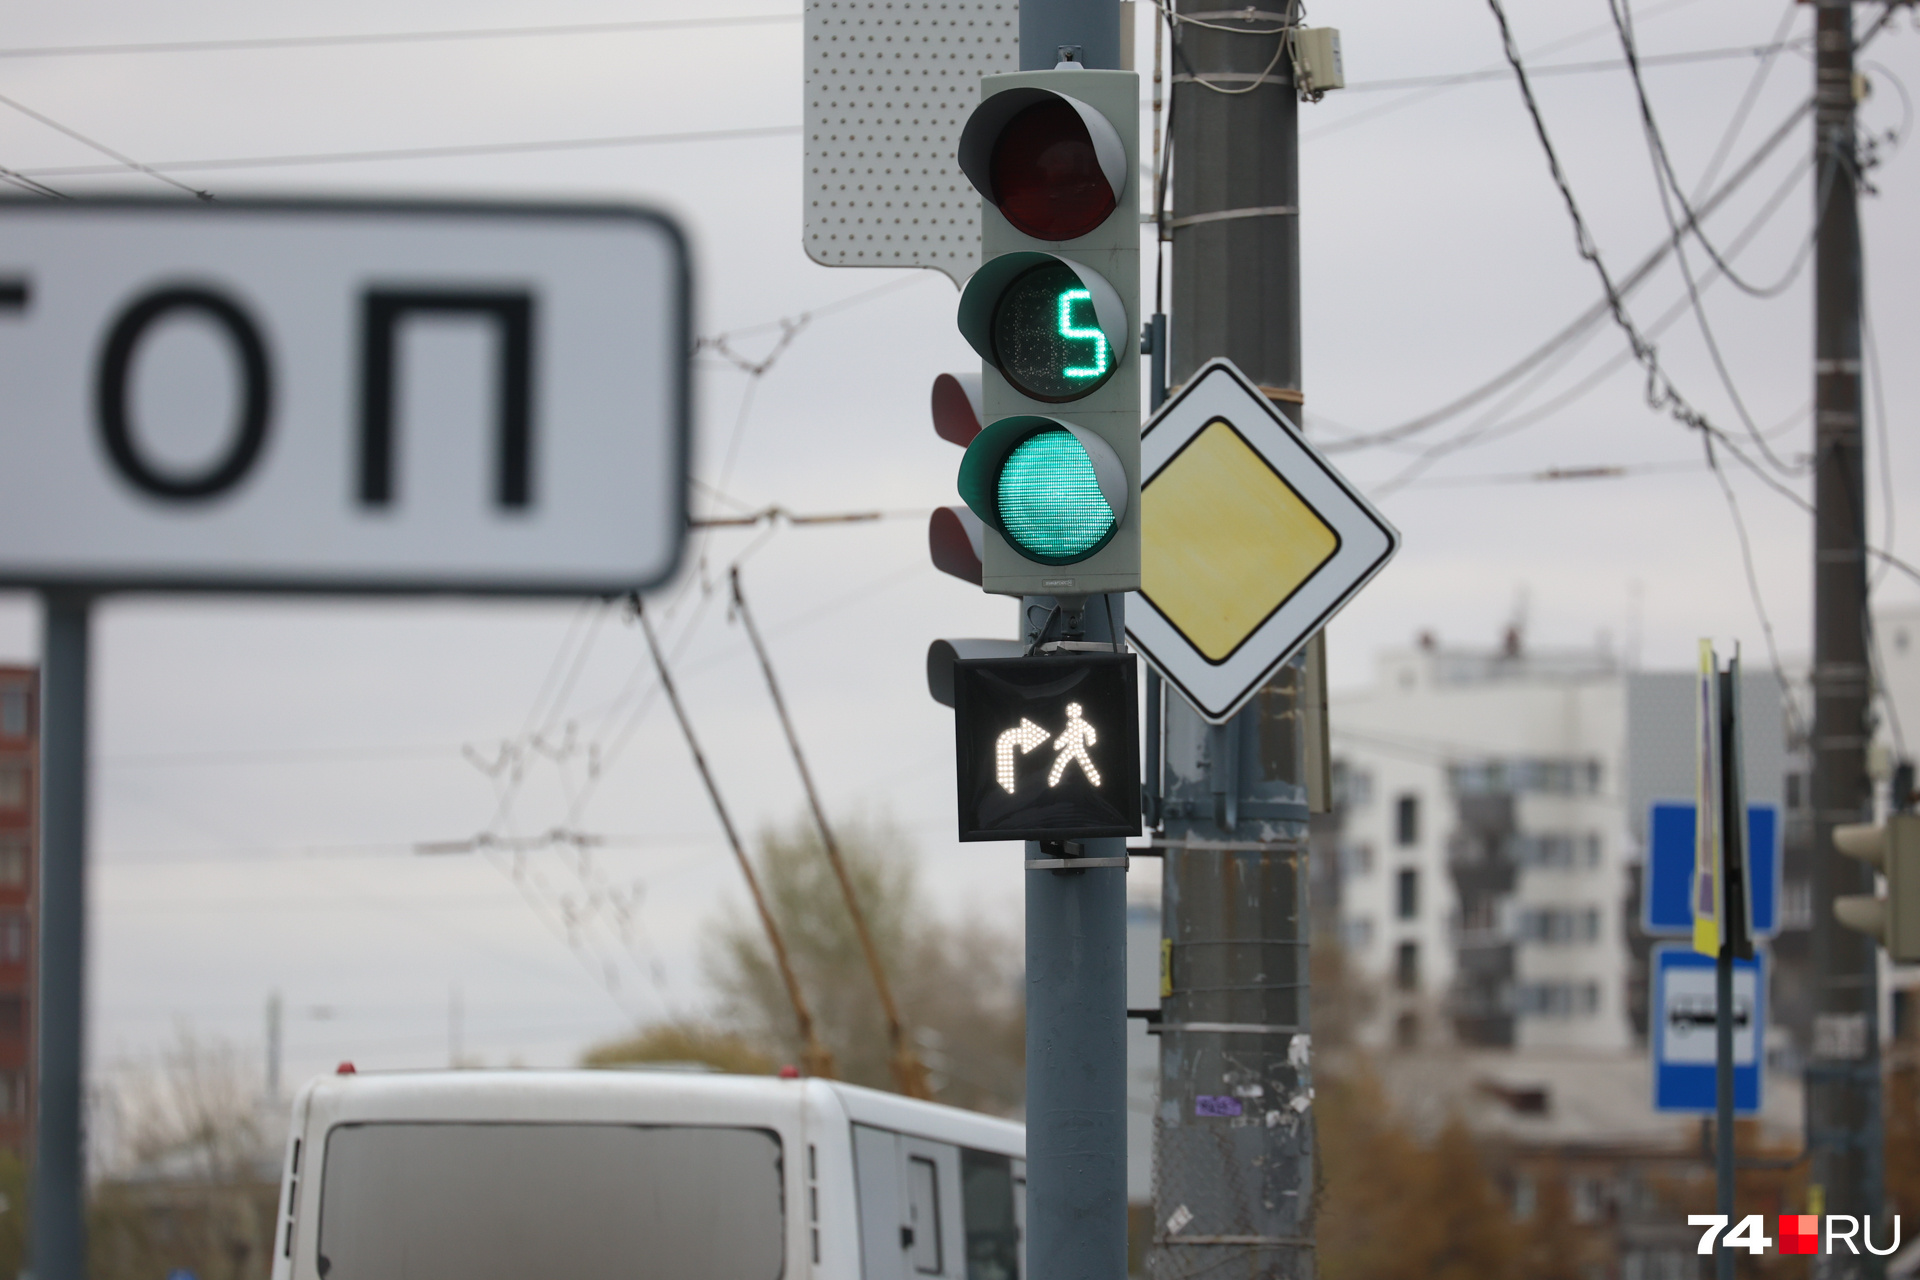tl: (957, 73, 1166, 610)
